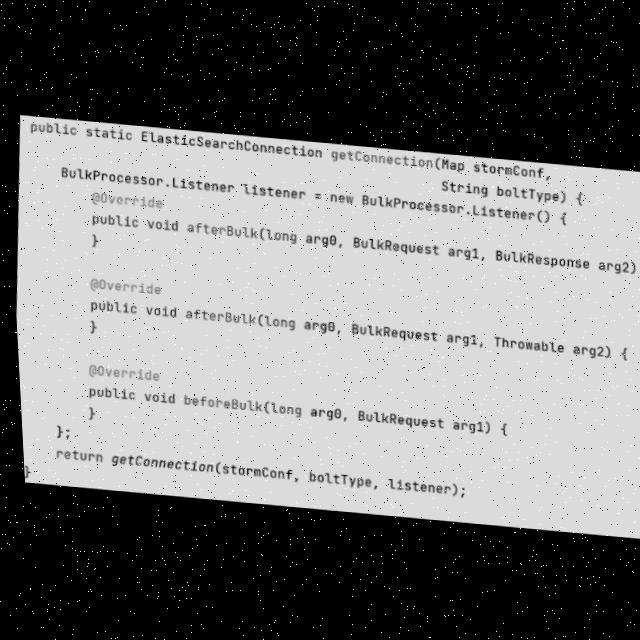code_screen: (16, 116, 640, 537)
